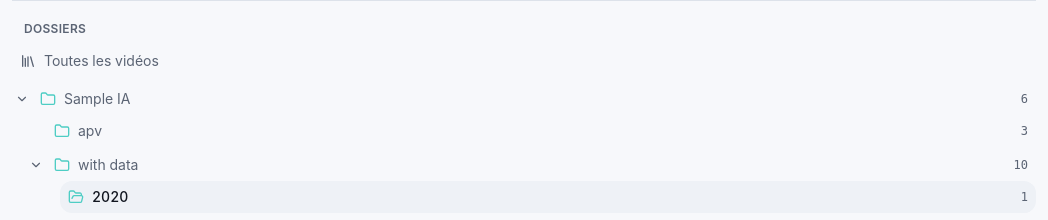
Test case: BinsTree › marks the open bin and folds a branch
What coordinates should you click on to do the following:
click the button named "Replier with data"
I would click on:
 (36, 165)
Its box is [26,155,46,175].
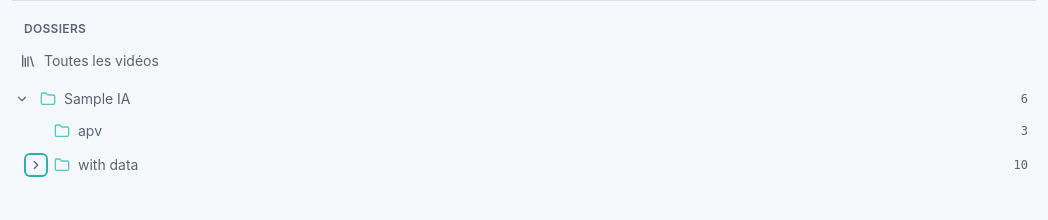
Result: the button "2020" is gone
Result: the button named "Déplier with data" is collapsed at [26,155,46,175]
